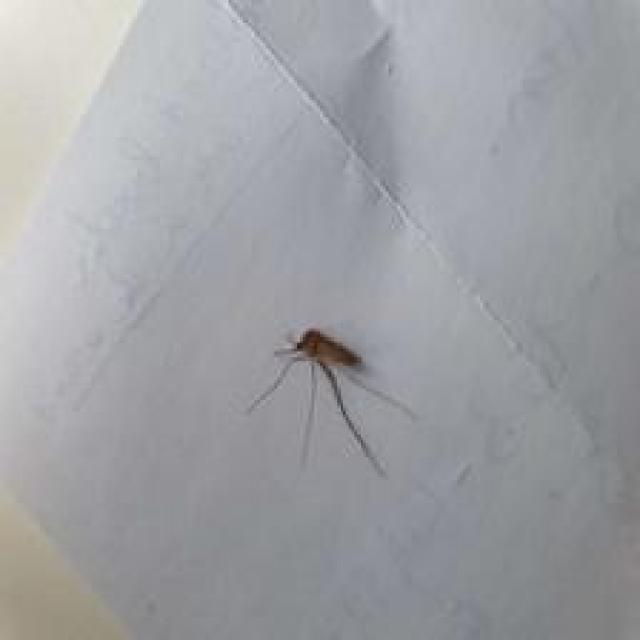Culex: (243, 326, 417, 477)
